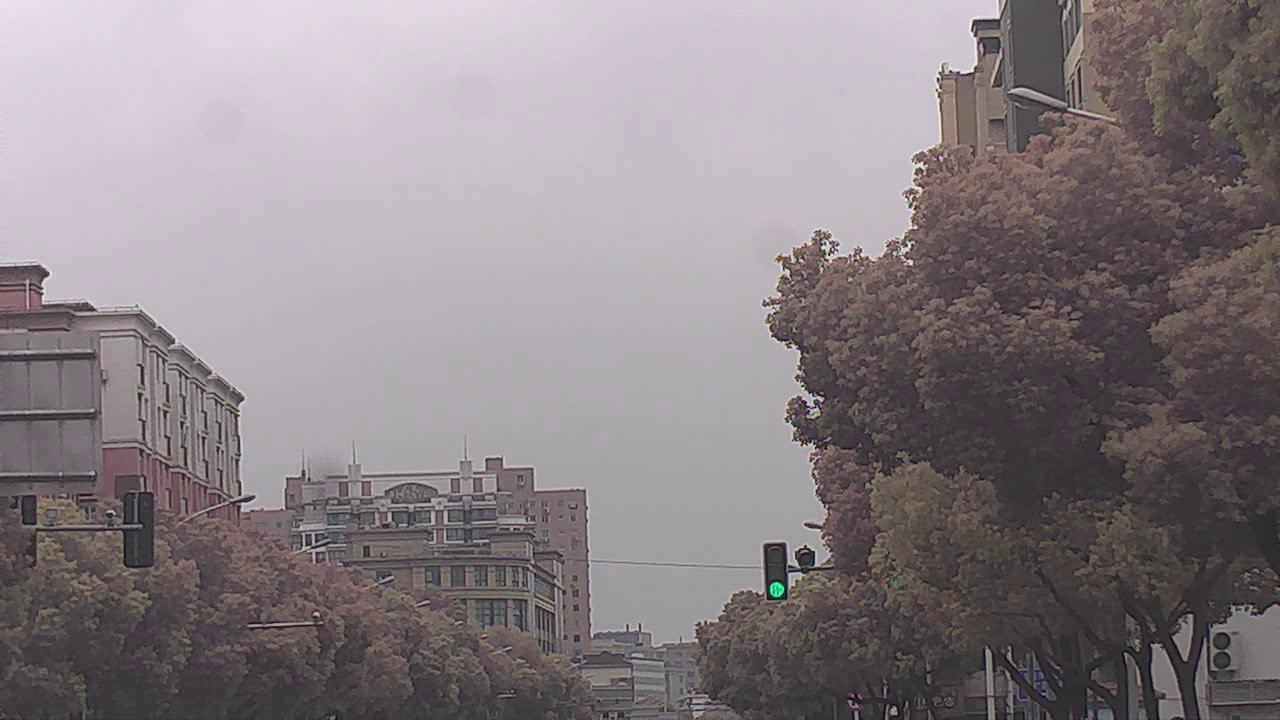traffic_light: (762, 541, 795, 601)
